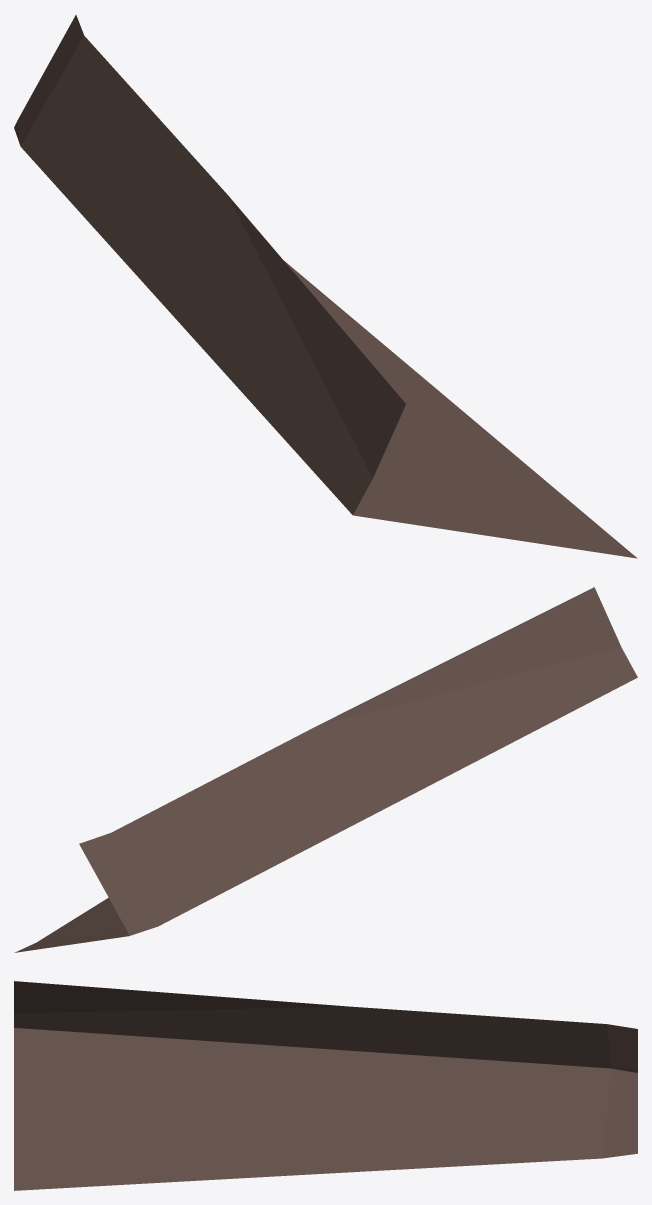
Rendered from cell_001.obj.
3 renders of one model, top to bottom at view 1: azimuth 30°, elevation 25°; view 2: azimuth 150°, elevation 25°; view 3: azimuth 270°, elevation 25°, orthographic. The views are drawn at different scales.
Bounding box in the file's own units: 0.3416 × 0.2415 × 1.
